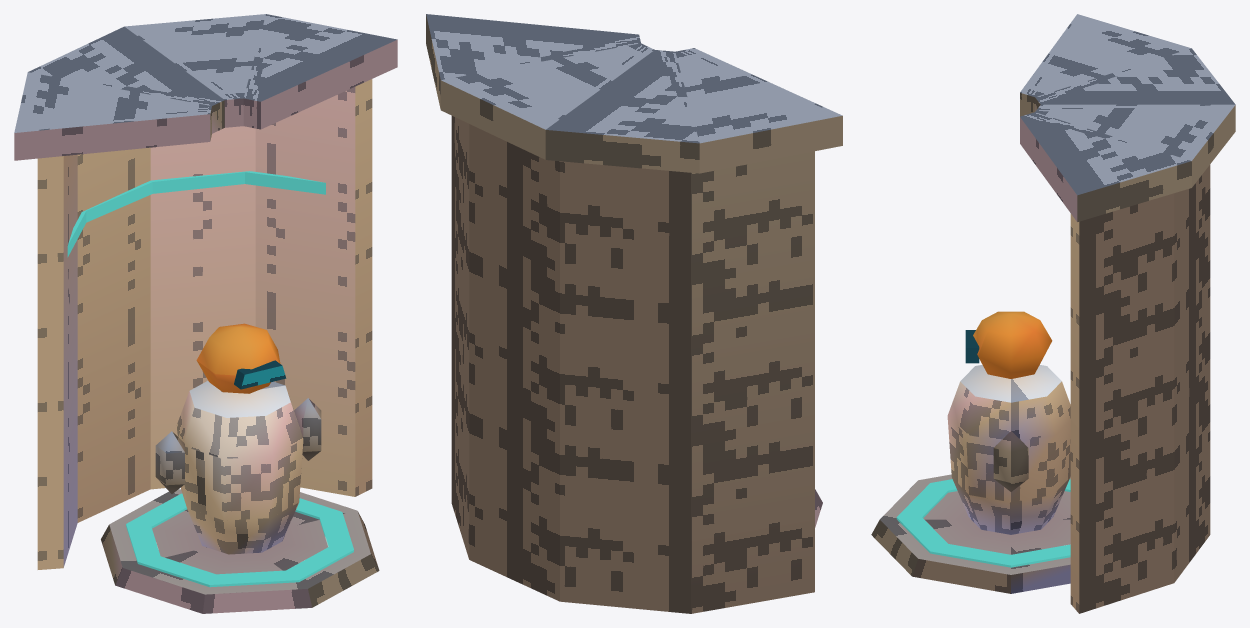
File: tech.charge_pod.glb
3 renders of one model, left to right at view 1: azimuth 30°, elevation 25°; view 2: azimuth 150°, elevation 25°; view 3: azimuth 270°, elevation 25°, orthographic. The views are drawn at different scales.
Parts seen in each view (by area): view 1: kit_alcove, kit_canopy, kit_bot_body, kit_pad, kit_pad_ring, kit_bot_head, kit_strips, kit_bot_arms, kit_bot_visor; view 2: kit_alcove, kit_canopy; view 3: kit_alcove, kit_canopy, kit_bot_body, kit_pad, kit_bot_head, kit_pad_ring, kit_bot_arms.
Part boxes in pixels (<box>): kit_alcove: <box>37,79,372,569</box>; kit_canopy: <box>14,14,397,160</box>; kit_bot_body: <box>176,381,303,554</box>; kit_pad: <box>101,489,379,613</box>; kit_pad_ring: <box>126,493,353,587</box>; kit_bot_head: <box>196,323,280,393</box>; kit_strips: <box>67,171,325,257</box>; kit_bot_arms: <box>155,398,321,493</box>; kit_bot_visor: <box>234,360,286,389</box>; kit_alcove: <box>451,116,814,613</box>; kit_canopy: <box>426,14,842,173</box>; kit_alcove: <box>1070,164,1210,613</box>; kit_canopy: <box>1020,14,1235,221</box>; kit_bot_body: <box>947,365,1070,534</box>; kit_pad: <box>871,474,1070,593</box>; kit_bot_head: <box>973,311,1052,378</box>; kit_pad_ring: <box>896,479,1070,567</box>; kit_bot_arms: <box>993,431,1028,491</box>.
Bounding box in the file's own units: 2.03 × 2.24 × 1.72.
Materials: 8 (8 with a texture image).
